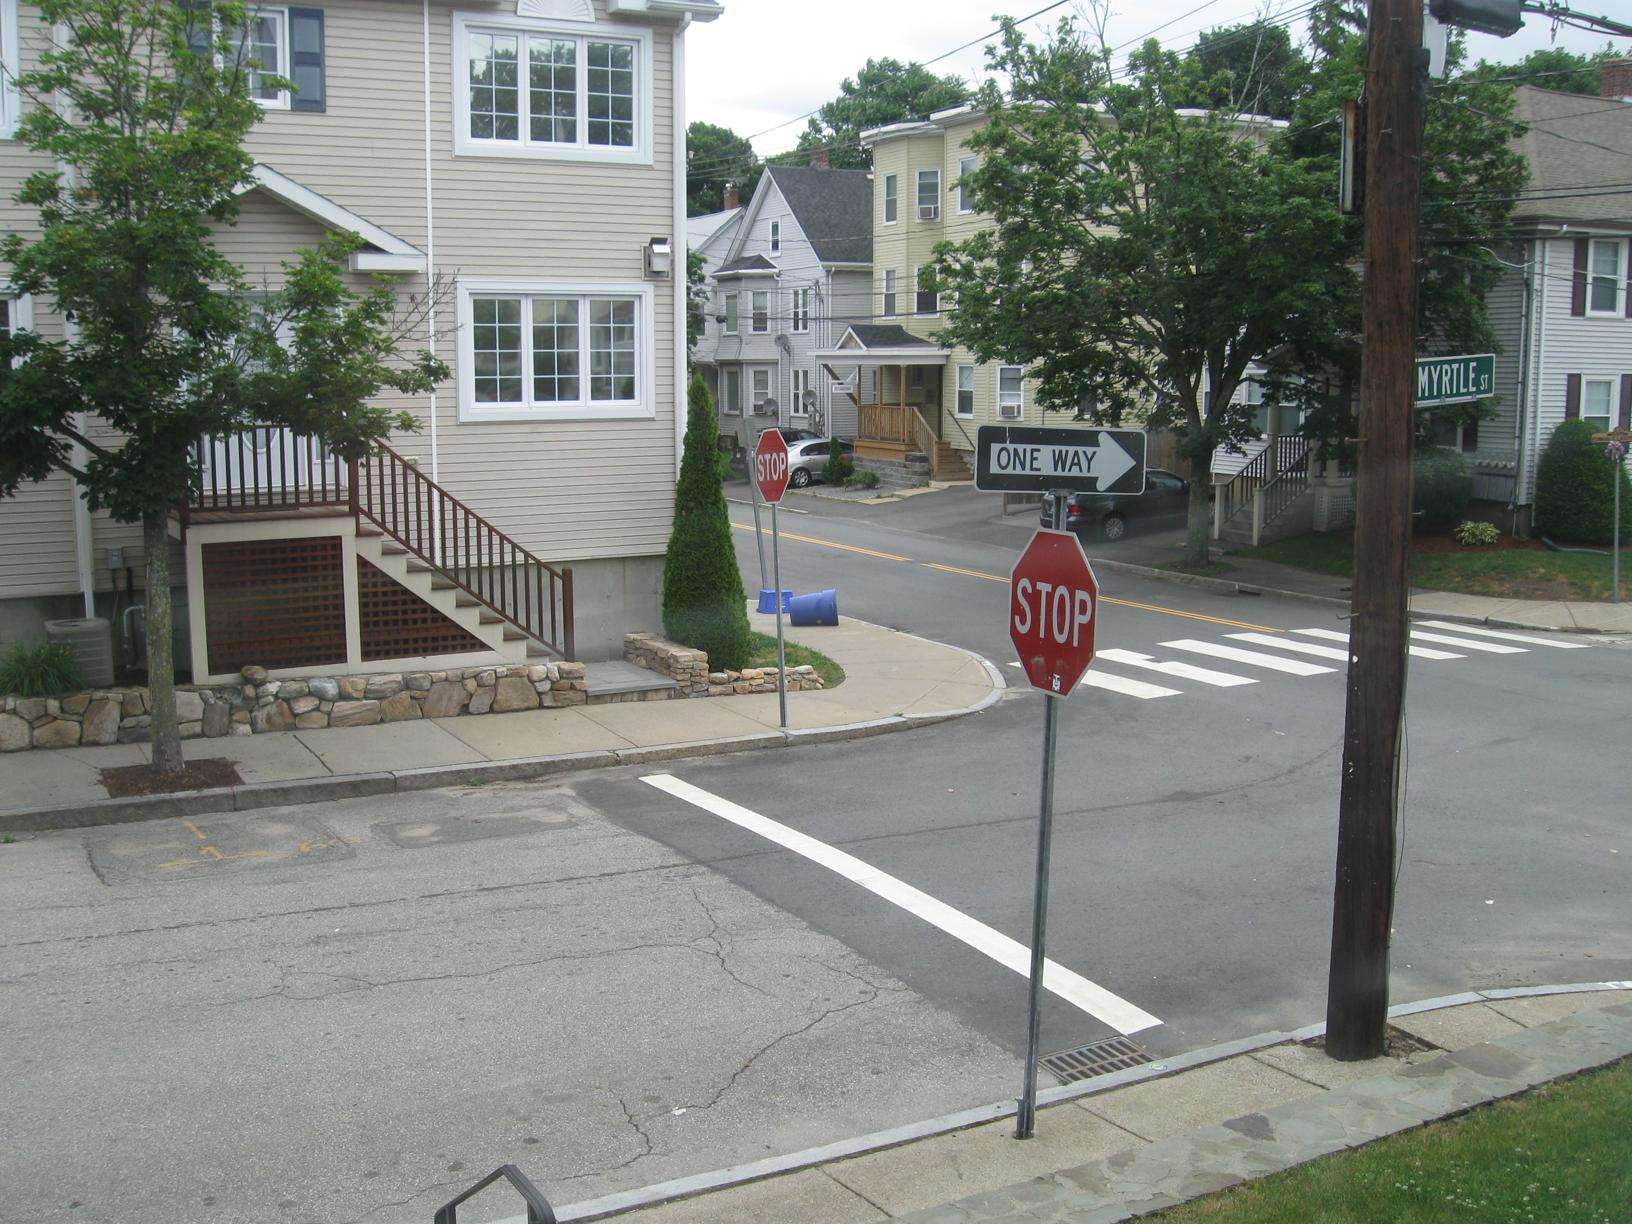stop: (995, 519, 1106, 699), (738, 429, 798, 501)
